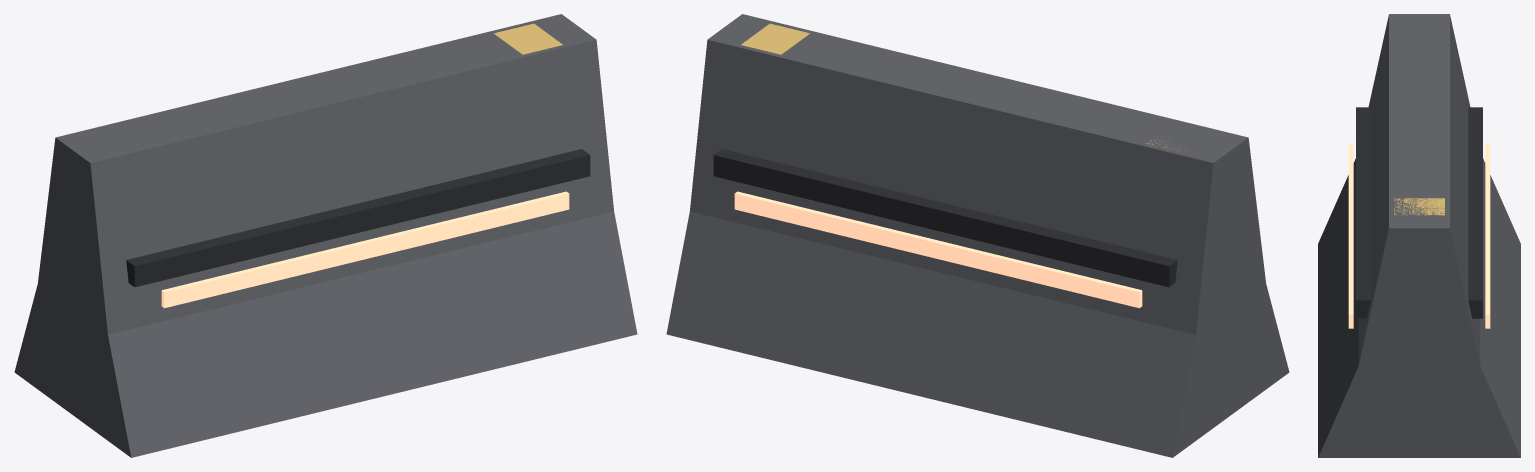
Rendered from Prop_Aegis_Barrier.fbx.
3 renders of one model, left to right at view 1: azimuth 30°, elevation 25°; view 2: azimuth 150°, elevation 25°; view 3: azimuth 270°, elevation 25°, orthographic. The views are drawn at different scales.
Parts seen in each view (by area): view 1: PAB_Body, PAB_Stripe, PAB_Light, PAB_Gold1; view 2: PAB_Body, PAB_Stripe, PAB_LightB, PAB_Gold1; view 3: PAB_Body, PAB_Stripe, PAB_Light, PAB_LightB, PAB_Gold1.
Part boxes in pixels (x1,y1,x2,y2): PAB_Body: (14, 14, 637, 457); PAB_Stripe: (126, 149, 590, 287); PAB_Light: (161, 191, 569, 308); PAB_Gold1: (494, 23, 562, 54); PAB_Body: (666, 14, 1289, 457); PAB_Stripe: (713, 149, 1177, 287); PAB_LightB: (734, 191, 1142, 308); PAB_Gold1: (741, 23, 809, 54); PAB_Body: (1318, 14, 1520, 457); PAB_Stripe: (1356, 107, 1482, 318); PAB_Light: (1348, 143, 1353, 328); PAB_LightB: (1485, 143, 1490, 328); PAB_Gold1: (1394, 198, 1444, 215).
Bounding box in the file's own units: 1 × 0.5 × 0.4.
